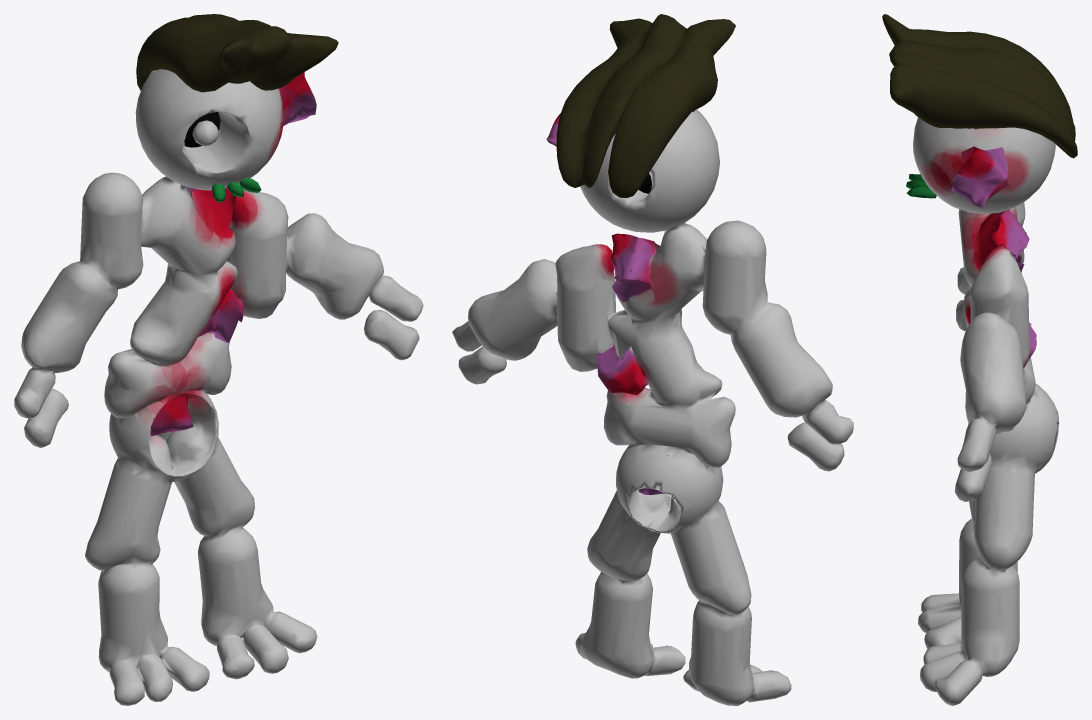
The model's file is pt_man.gltf.
3 views of the same model, side by side, from view 1: azimuth 30°, elevation 25°; view 2: azimuth 150°, elevation 25°; view 3: azimuth 270°, elevation 25° (orthographic). The views are drawn at different scales.
Parts seen in each view (by area): view 1: Layer_1; view 2: Layer_1; view 3: Layer_1.
Part boxes in pixels (x1,y1,x2,y2): Layer_1: (14, 14, 423, 705); Layer_1: (452, 14, 853, 705); Layer_1: (882, 14, 1077, 705).
Bounding box in the file's own units: 1.15 × 1.78 × 0.4902.
